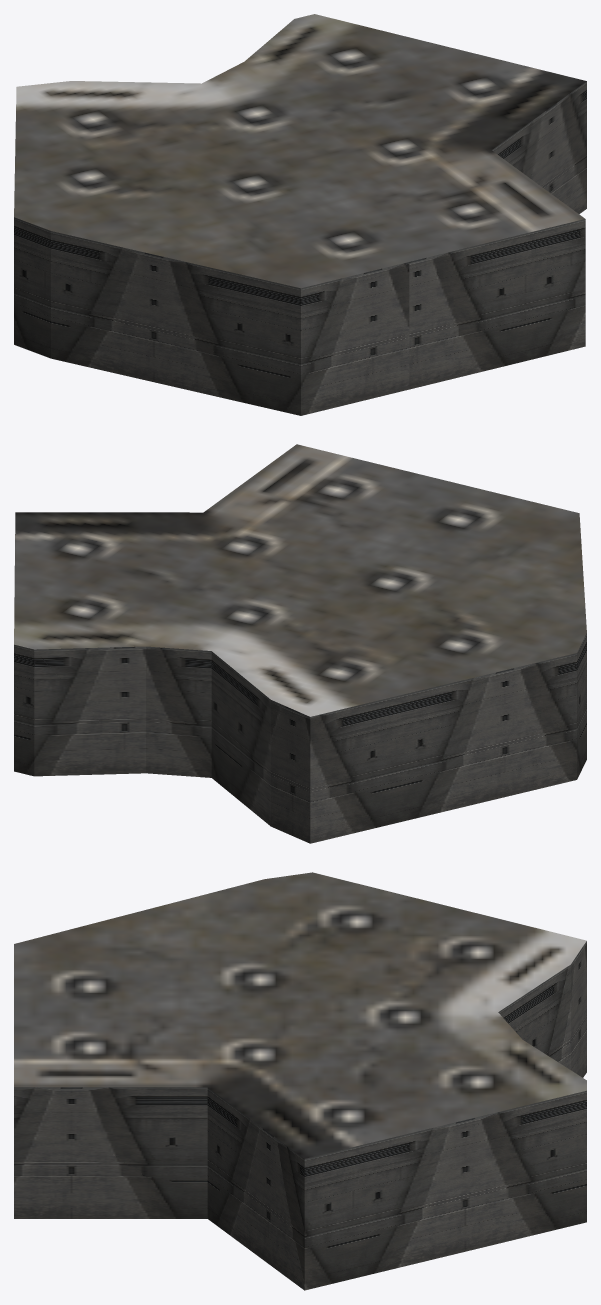
The model's file is fortress_medium_58.glb.
The picture shows the model from 3 angles, top to bottom: view 1: azimuth 30°, elevation 25°; view 2: azimuth 150°, elevation 25°; view 3: azimuth 270°, elevation 25°; orthographic projection. The views are drawn at different scales.
Parts seen in each view (by area): view 1: buildings/saxarba/fortress_medium/fortress_medium_58; view 2: buildings/saxarba/fortress_medium/fortress_medium_58; view 3: buildings/saxarba/fortress_medium/fortress_medium_58.
Boxes of the visible parts, x1,y1,x2,y2 form: buildings/saxarba/fortress_medium/fortress_medium_58: (14,14,586,415); buildings/saxarba/fortress_medium/fortress_medium_58: (14,444,586,843); buildings/saxarba/fortress_medium/fortress_medium_58: (14,872,586,1290).
Size of the model in its own units: 84 by 18 by 71.
